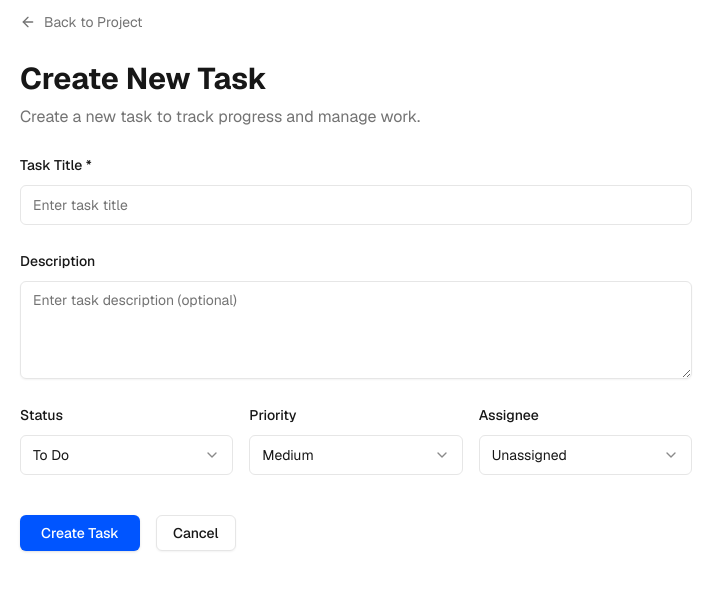
Test: TaskForm › shows validation error for empty task title
Step 1. Click the button "Create Task" → [80, 533], box [20,515,140,551]
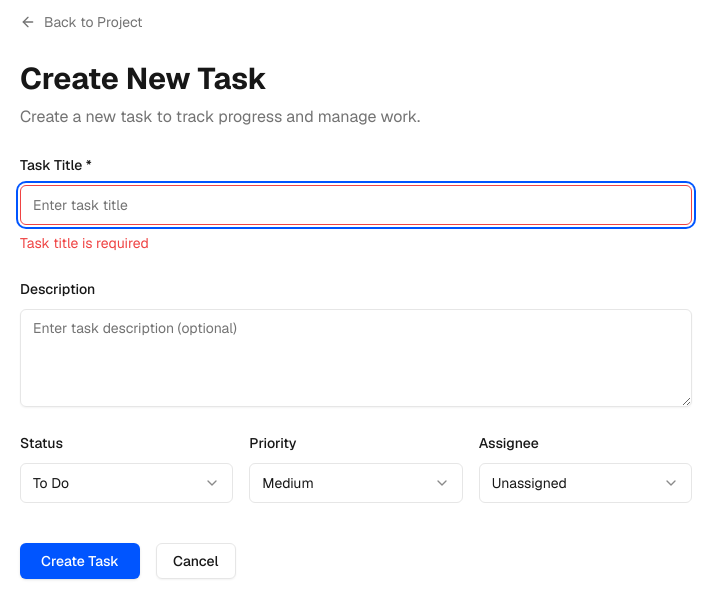
Check: the text "Task title is required" is shown, box [20,234,149,252]
